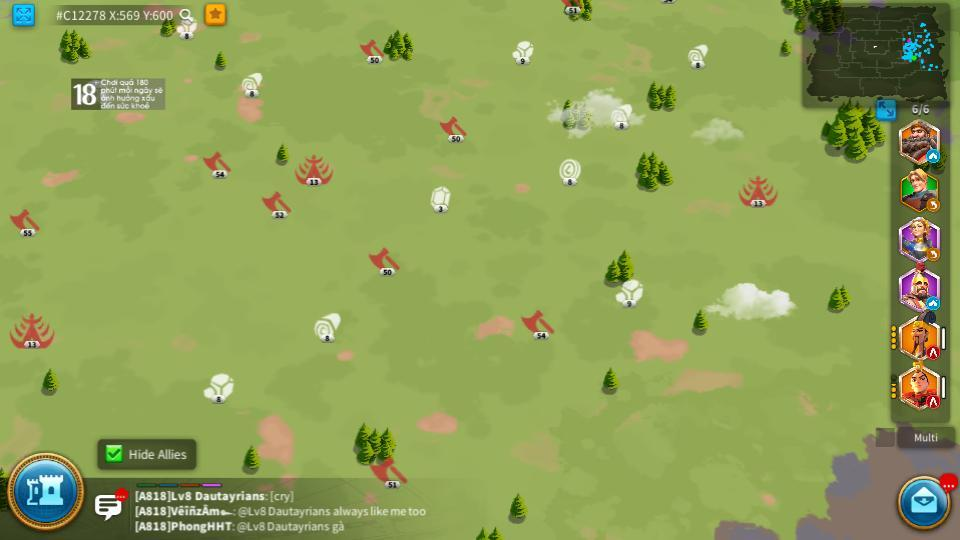gem-z-out: (429, 186, 451, 212)
march_attacking: (926, 395, 941, 407), (924, 348, 938, 360)
march_idle: (925, 150, 938, 161), (925, 297, 938, 307)
march_returning: (926, 248, 941, 260), (927, 201, 940, 211)
